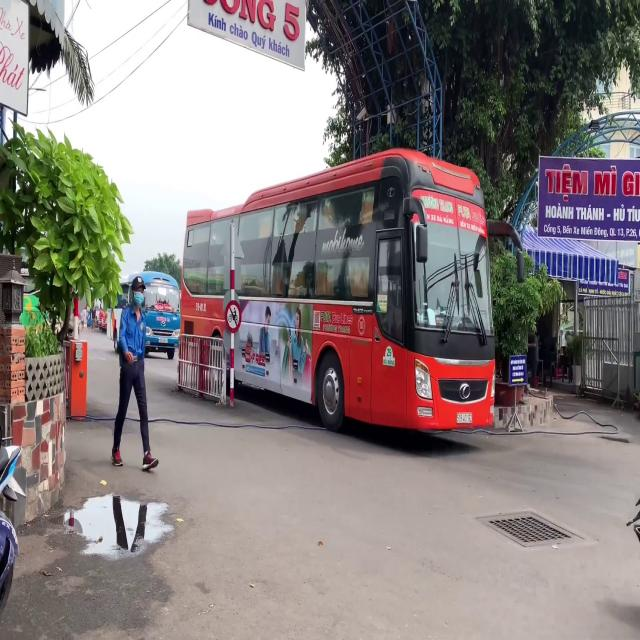bien_trang: (455, 408, 474, 425)
